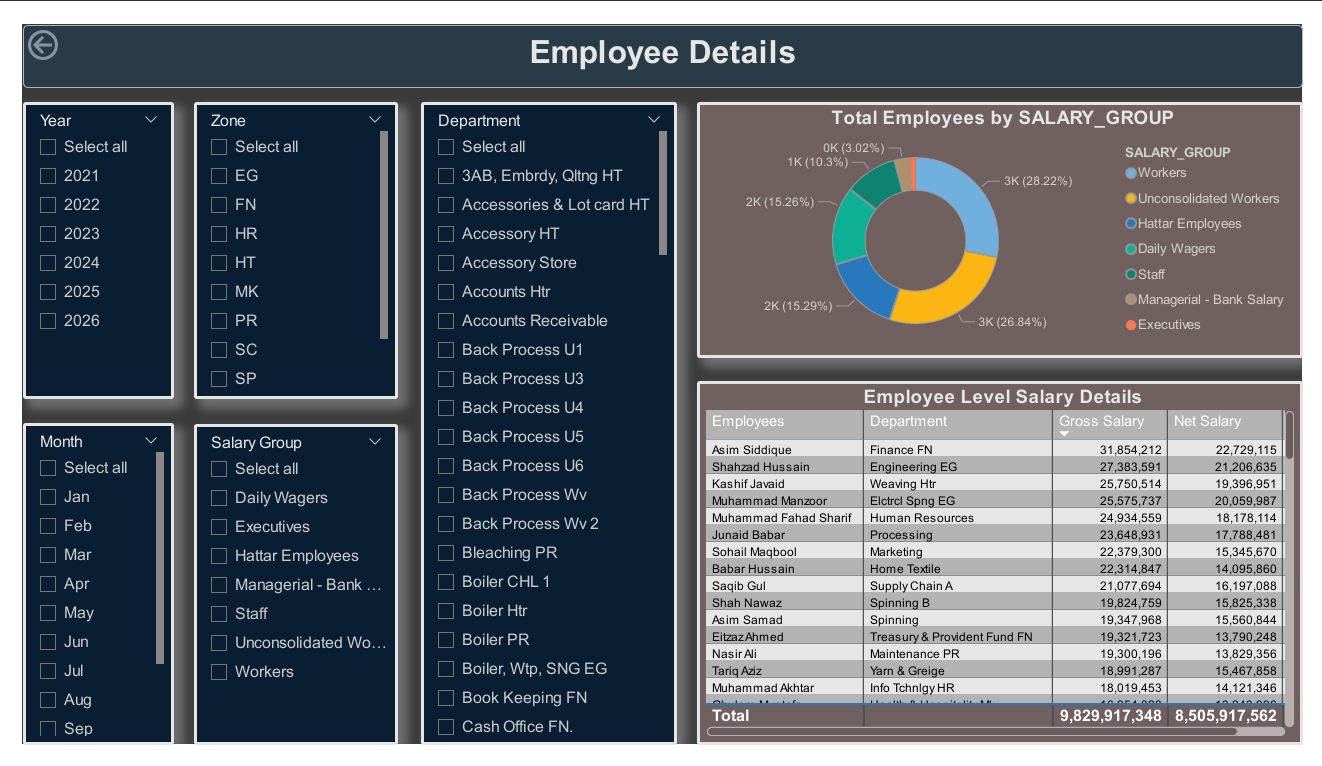

This screenshot's page, from the dashboard's own definition file:
{"tool":"powerbi","page":{"name":"Employee Details","canvas":[1280,720],"ordinal":4},"visuals":[{"type":"tableEx","title":"Employee Level Salary Details","fields":{"Values":["AI_PAYROLL_DATA.EMPLOYEE_NAME","AI_PAYROLL_DATA.DEPARTMENT","Sum(AI_PAYROLL_DATA.GROSS_SALARY)","Sum(AI_PAYROLL_DATA.NET_SALARY)","AI_PAYROLL_DATA.PAYMENT_STATUS"]},"box":[674.4,355.9,605.6,364.3],"z":0},{"type":"actionButton","box":[0,0,100,40],"z":1000},{"type":"textbox","box":[0,0,1280.3,63.1],"z":2000},{"type":"slicer","fields":{"Values":["DateTable.Year"]},"box":[0,77.2,150.8,296.8],"z":3000},{"type":"slicer","fields":{"Values":["DateTable.Month"]},"box":[0,398.1,150.8,322.1],"z":4000},{"type":"slicer","fields":{"Values":["AI_PAYROLL_DATA.ZONE"]},"box":[171.3,77.2,203.9,296.8],"z":5000},{"type":"slicer","fields":{"Values":["AI_PAYROLL_DATA.DEPARTMENT"]},"box":[398.1,77.2,255.8,643],"z":6000},{"type":"donutChart","fields":{"Category":["AI_PAYROLL_DATA.SALARY_GROUP"],"Y":["AI_PAYROLL_DATA.Total Employees"]},"box":[674.4,77.2,605.6,255.8],"z":7000},{"type":"slicer","fields":{"Values":["AI_PAYROLL_DATA.SALARY_GROUP"]},"box":[171.3,399.3,203.9,320.9],"z":8000}]}

Visuals, with their boxes in screenshot pixels (x1, y1, x2, y2), scaled from the page's 1280x720 canvas onto the 1322x766 screenshot:
"Employee Level Salary Details" tableEx: 697, 379, 1321, 765
actionButton: 0, 0, 103, 43
textbox: 0, 0, 1321, 67
slicer - DateTable.Year: 0, 82, 156, 398
slicer - DateTable.Month: 0, 424, 156, 765
slicer - AI_PAYROLL_DATA.ZONE: 177, 82, 388, 398
slicer - AI_PAYROLL_DATA.DEPARTMENT: 411, 82, 675, 765
donutChart - AI_PAYROLL_DATA.SALARY_GROUP x AI_PAYROLL_DATA.Total Employees: 697, 82, 1321, 354
slicer - AI_PAYROLL_DATA.SALARY_GROUP: 177, 425, 388, 765
